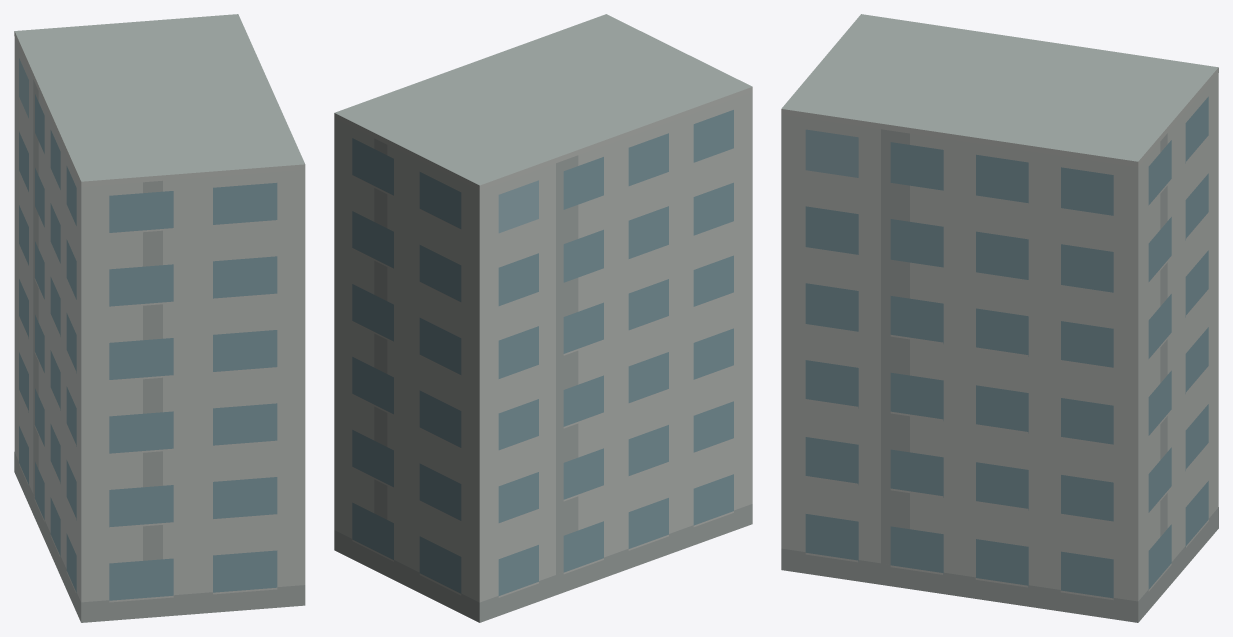
File: survey-upis-32841981.glb
The picture shows the model from 3 angles, left to right: view 1: azimuth 30°, elevation 25°; view 2: azimuth 150°, elevation 25°; view 3: azimuth 270°, elevation 25°; orthographic projection. The views are drawn at different scales.
Parts seen in each view (by area): view 1: survey-upis-32841981.tmp; view 2: survey-upis-32841981.tmp; view 3: survey-upis-32841981.tmp.
Boxes of the visible parts, x1=… form: survey-upis-32841981.tmp: x1=14, y1=14, x2=305, y2=622; survey-upis-32841981.tmp: x1=334, y1=14, x2=752, y2=622; survey-upis-32841981.tmp: x1=781, y1=14, x2=1218, y2=622.
Size of the model in its own units: 13.69 by 19.91 by 17.13.
